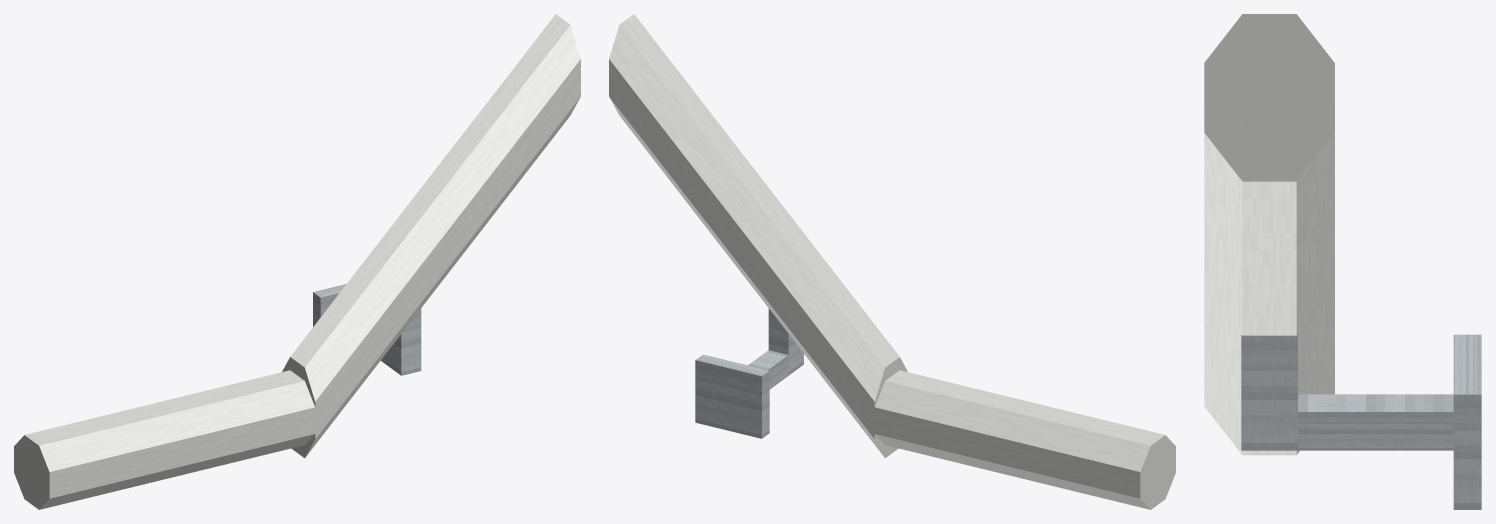
File: foot_pos.obj
The picture shows the model from 3 angles, left to right: view 1: azimuth 30°, elevation 25°; view 2: azimuth 150°, elevation 25°; view 3: azimuth 270°, elevation 25°; orthographic projection. The views are drawn at different scales.
Parts seen in each view (by area): view 1: handrail_wall_white_round_foot_pos; view 2: handrail_wall_white_round_foot_pos; view 3: handrail_wall_white_round_foot_pos.
Boxes of the visible parts, bbox=[...] form: handrail_wall_white_round_foot_pos: bbox=[14, 14, 580, 509]; handrail_wall_white_round_foot_pos: bbox=[609, 14, 1175, 509]; handrail_wall_white_round_foot_pos: bbox=[1204, 14, 1481, 509].
Bounding box in the file's own units: 1 × 0.6633 × 0.2452.
